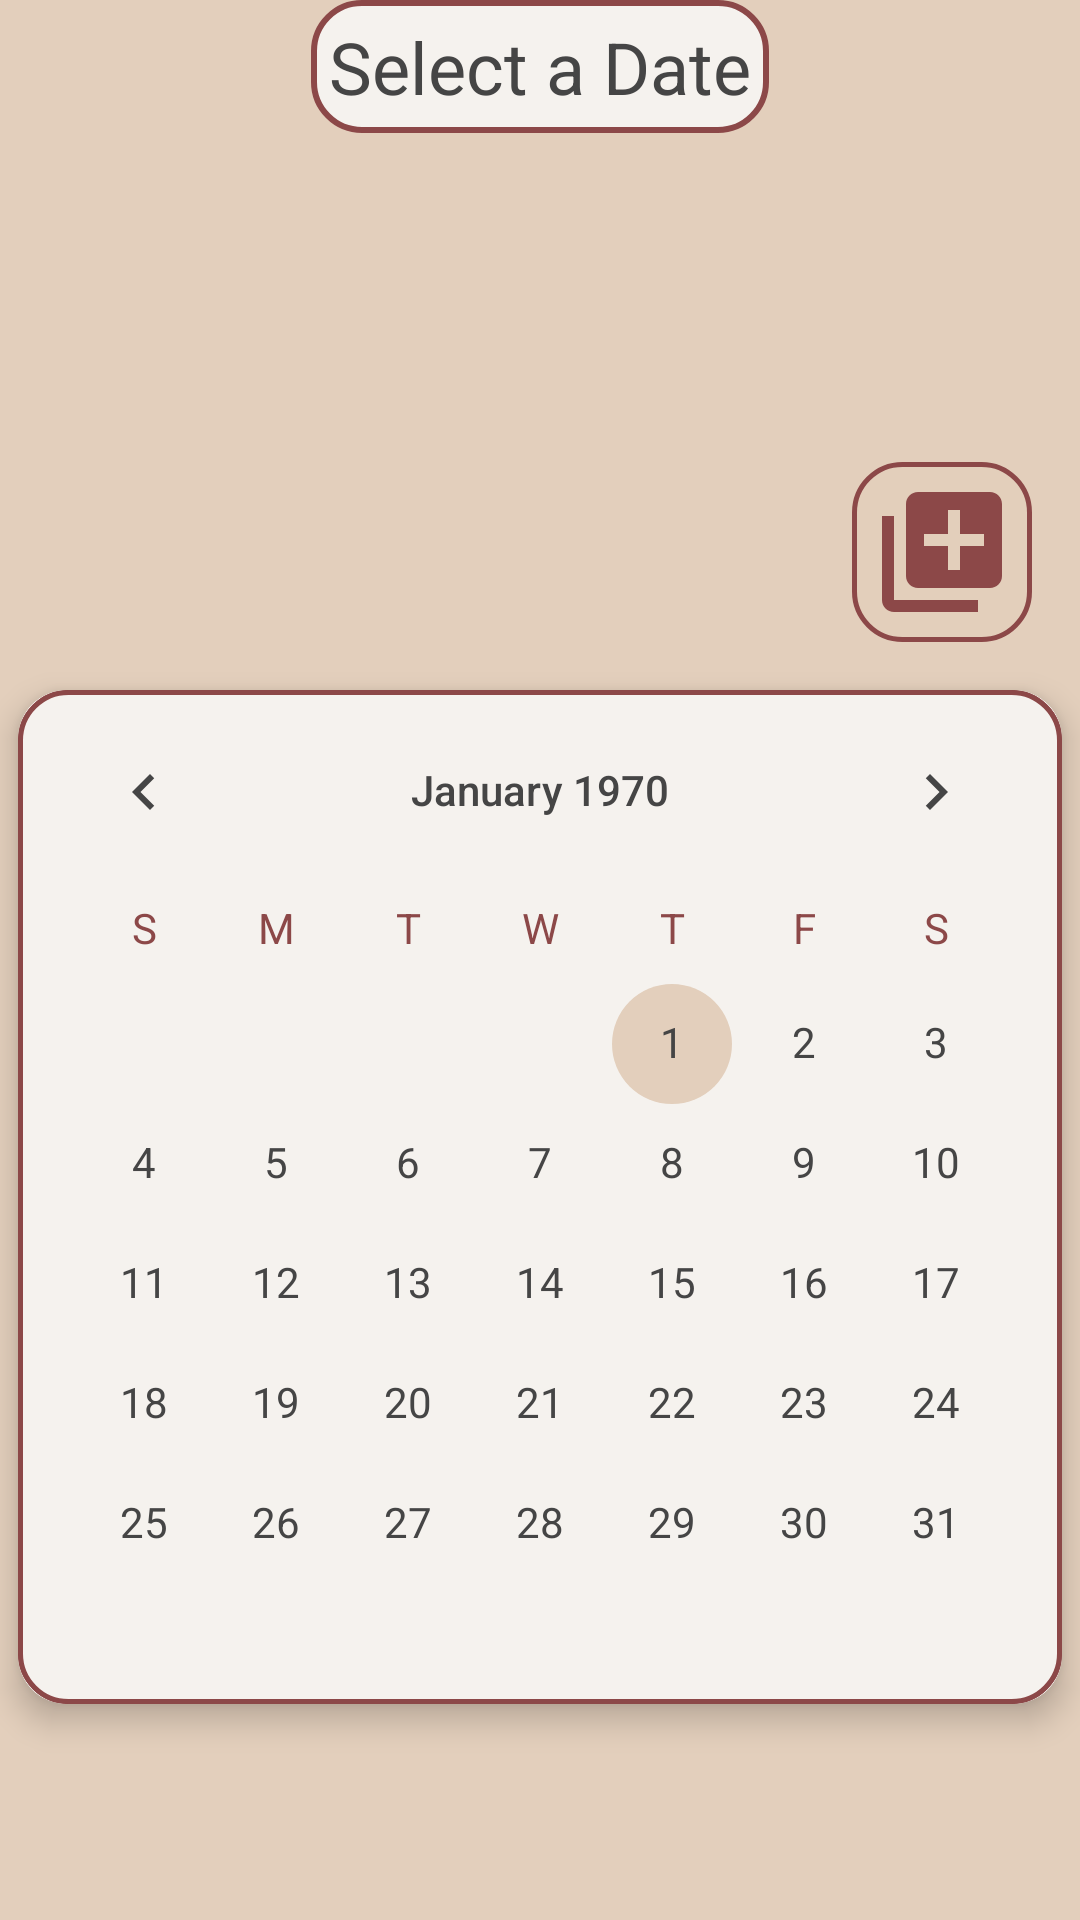

Icons on this 1080x1920 Android screen, each with its box as (left=x1, top=y1, right=x2, bottom=y2):
library add: (left=852, top=462, right=1032, bottom=642)
